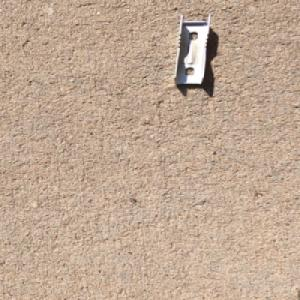ClampPart: (171, 12, 214, 88)
